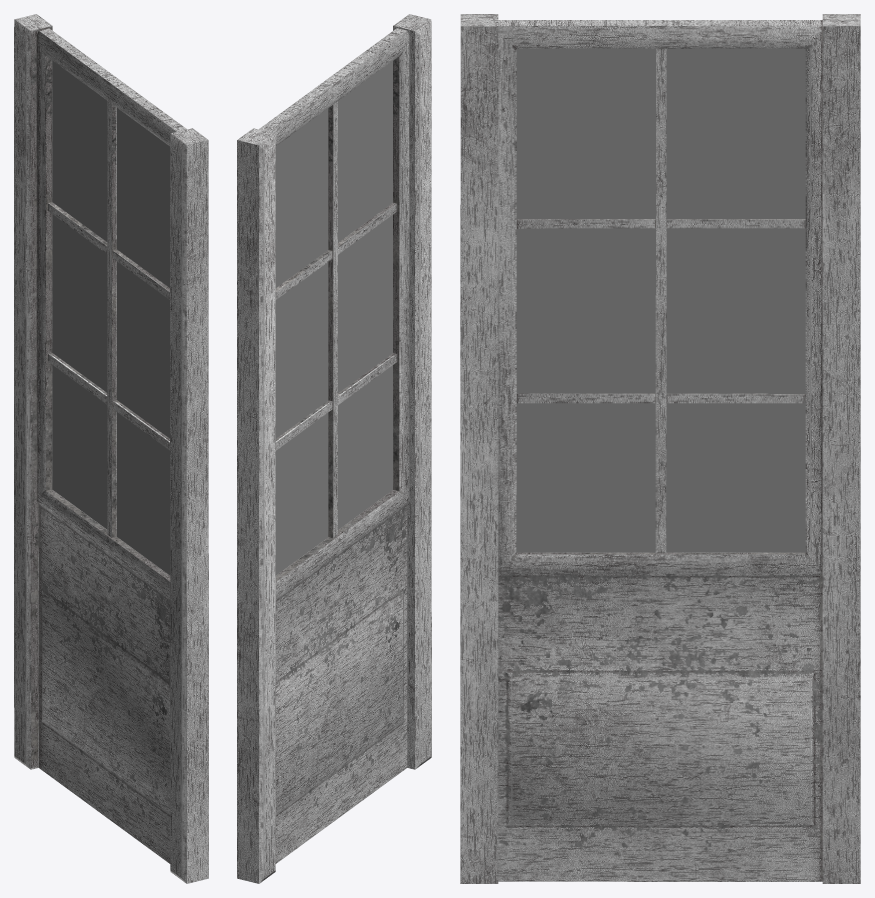
The model's file is SM_Door_01.FBX.
The picture shows the model from 3 angles, left to right: view 1: azimuth 30°, elevation 25°; view 2: azimuth 150°, elevation 25°; view 3: azimuth 270°, elevation 25°; orthographic projection. The views are drawn at different scales.
Visible parts, largest first — view 1: SM_Door_01, SM_Door_01_Glass; view 2: SM_Door_01, SM_Door_01_Glass; view 3: SM_Door_01, SM_Door_01_Glass.
Part boxes in pixels (x1,y1,x2,y2): SM_Door_01: (14,14,208,883); SM_Door_01_Glass: (52,60,170,575); SM_Door_01: (237,14,431,883); SM_Door_01_Glass: (275,61,392,575); SM_Door_01: (460,14,860,883); SM_Door_01_Glass: (516,48,805,552).
Size of the model in its own units: 0.1027 by 2.92 by 1.23.
Materials: 2 (1 with a texture image).
